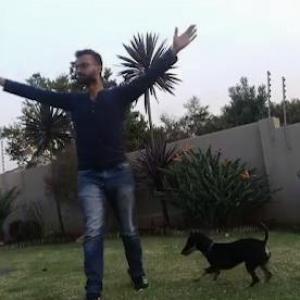takeoff: (3, 10, 180, 299)
